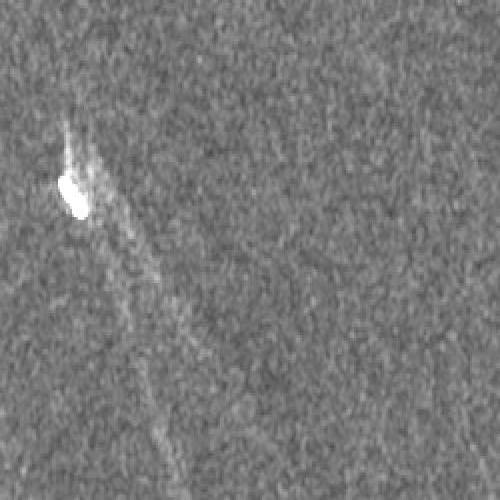ship: (56, 174, 91, 221)
